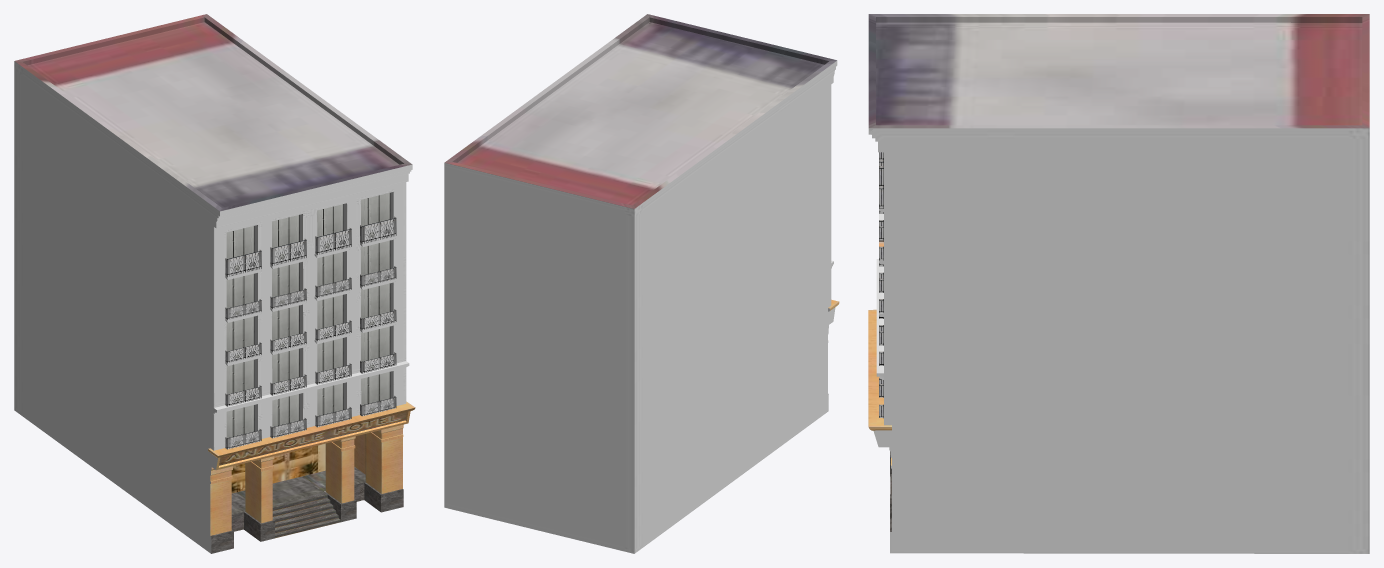
3 views of the same model, side by side, from view 1: azimuth 30°, elevation 25°; view 2: azimuth 150°, elevation 25°; view 3: azimuth 270°, elevation 25° (orthographic). The views are drawn at different scales.
Parts seen in each view (by area): view 1: HN105___Anatole_Hotel_Hanoi; view 2: HN105___Anatole_Hotel_Hanoi; view 3: HN105___Anatole_Hotel_Hanoi.
Boxes of the visible parts, left/top/right/bottom form: HN105___Anatole_Hotel_Hanoi: left=14, top=14, right=415, bottom=553; HN105___Anatole_Hotel_Hanoi: left=444, top=14, right=839, bottom=553; HN105___Anatole_Hotel_Hanoi: left=868, top=14, right=1369, bottom=553.
Size of the model in its own units: 15.41 by 26.02 by 27.77.
1 material, 1 textured.
